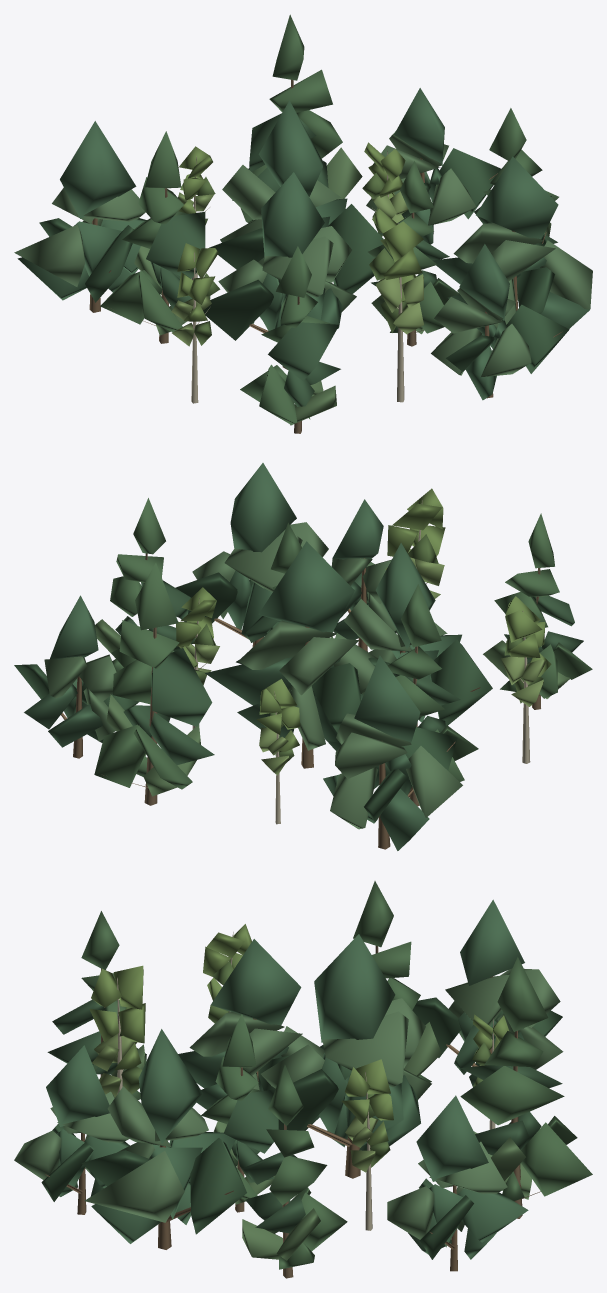
File: forest-stand-low.glb
3 views of the same model, one above another, from view 1: azimuth 30°, elevation 25°; view 2: azimuth 150°, elevation 25°; view 3: azimuth 270°, elevation 25° (orthographic). The views are drawn at different scales.
Size of the model in its own units: 27.93 by 14.03 by 28.63.
